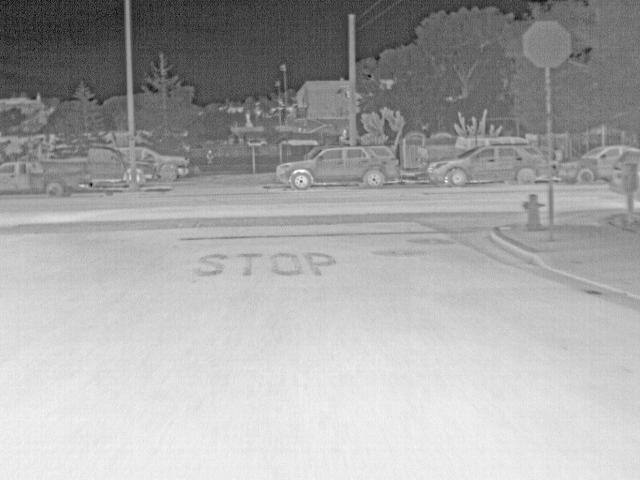car: (275, 142, 401, 190), (27, 144, 129, 197), (426, 142, 548, 186), (559, 145, 611, 186), (0, 161, 27, 193), (158, 153, 188, 180), (611, 150, 622, 194), (138, 161, 156, 187), (138, 146, 158, 162), (621, 150, 636, 163)
person: (205, 148, 215, 165)
